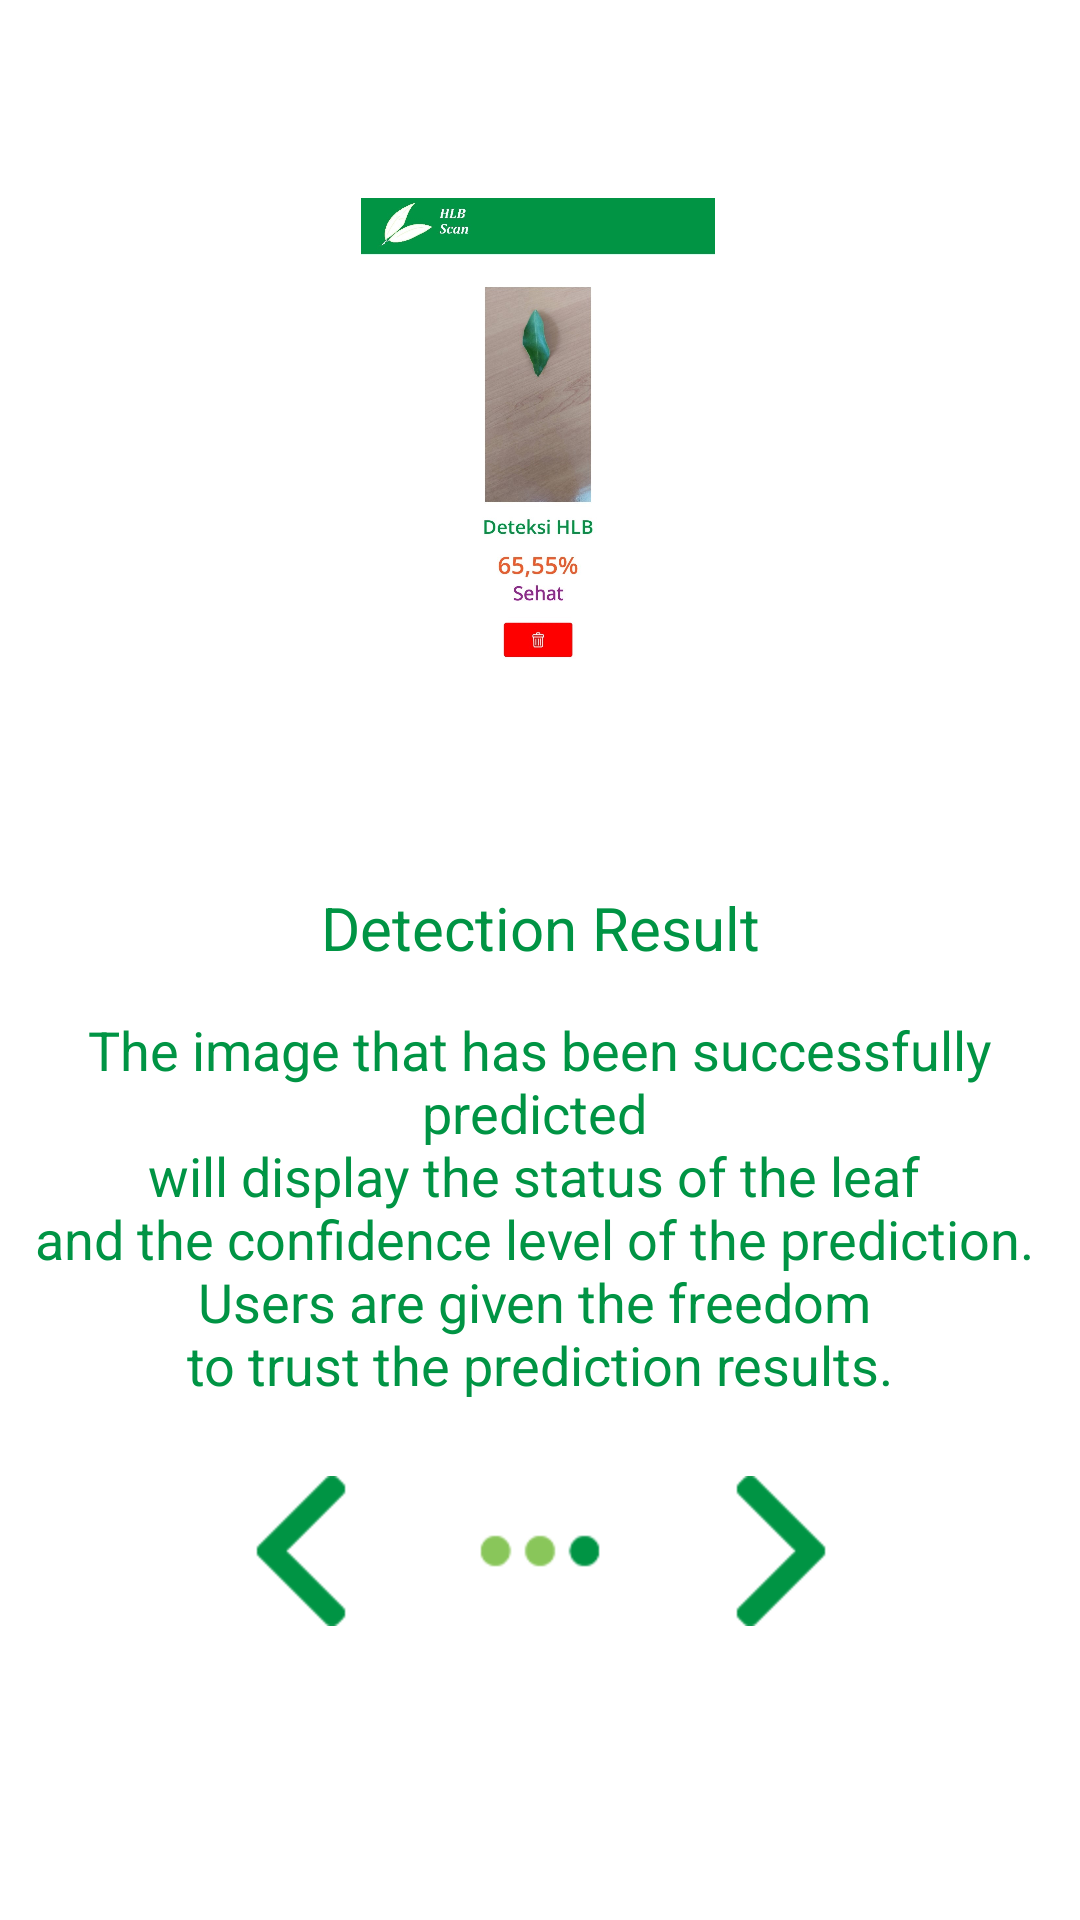

Icon bounding boxes for this 1080×1920 phone screenshot, format (x1, y1, x2, y2):
arrow left: (256, 1476, 346, 1626)
arrow right: (736, 1476, 826, 1626)
dot: (480, 1535, 600, 1567)
